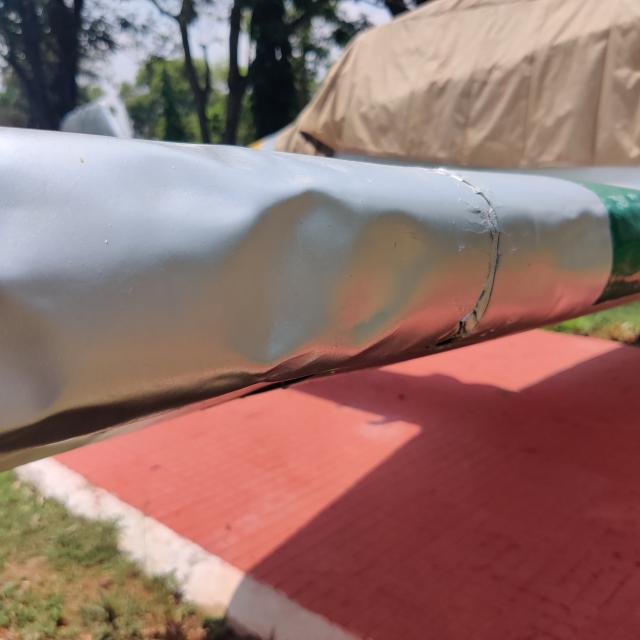dent: (166, 162, 454, 397), (0, 262, 109, 431)
